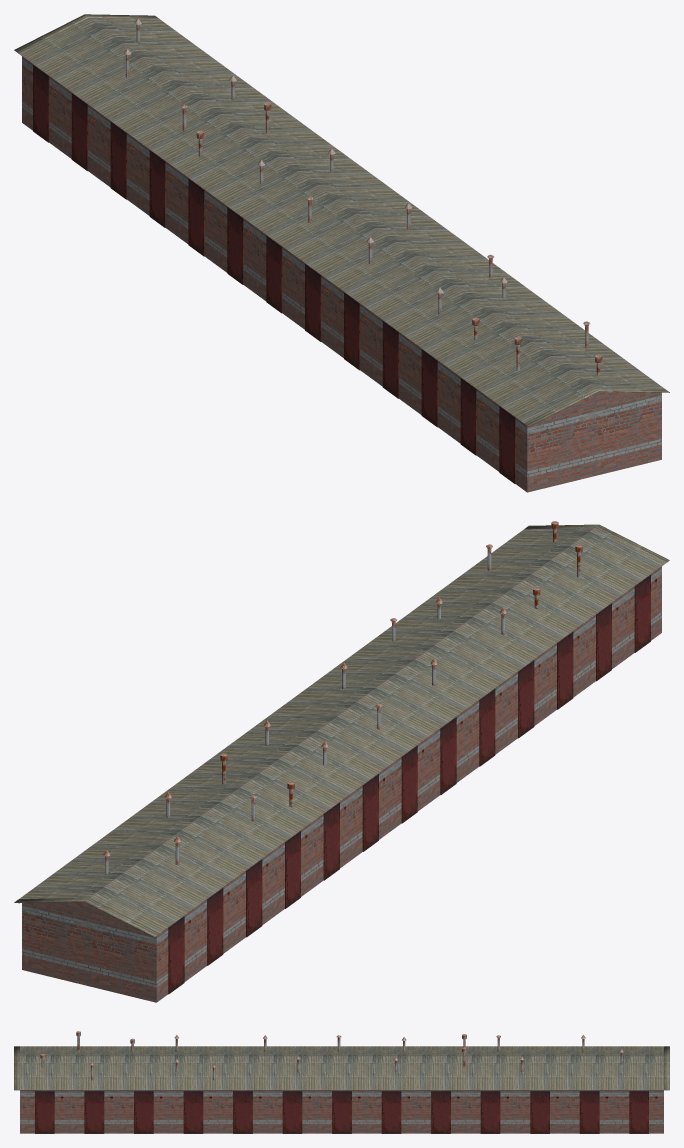
The model's file is garage_row_brick.glb.
The picture shows the model from 3 angles, top to bottom: view 1: azimuth 30°, elevation 25°; view 2: azimuth 150°, elevation 25°; view 3: azimuth 270°, elevation 25°; orthographic projection. The views are drawn at different scales.
Visible parts, largest first — view 1: garage_row_brick; view 2: garage_row_brick; view 3: garage_row_brick.
Part boxes in pixels (x1,y1,x2,y2): garage_row_brick: [14, 14, 669, 492]; garage_row_brick: [14, 521, 669, 1002]; garage_row_brick: [14, 1031, 669, 1133].
Size of the model in its own units: 4.2 by 3.17 by 26.49.
1 material, 1 textured.
